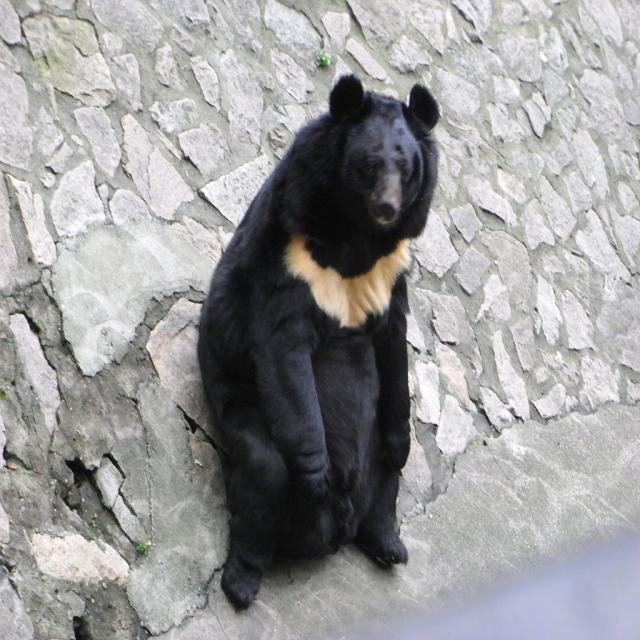Buffalo: (196, 74, 439, 613)
